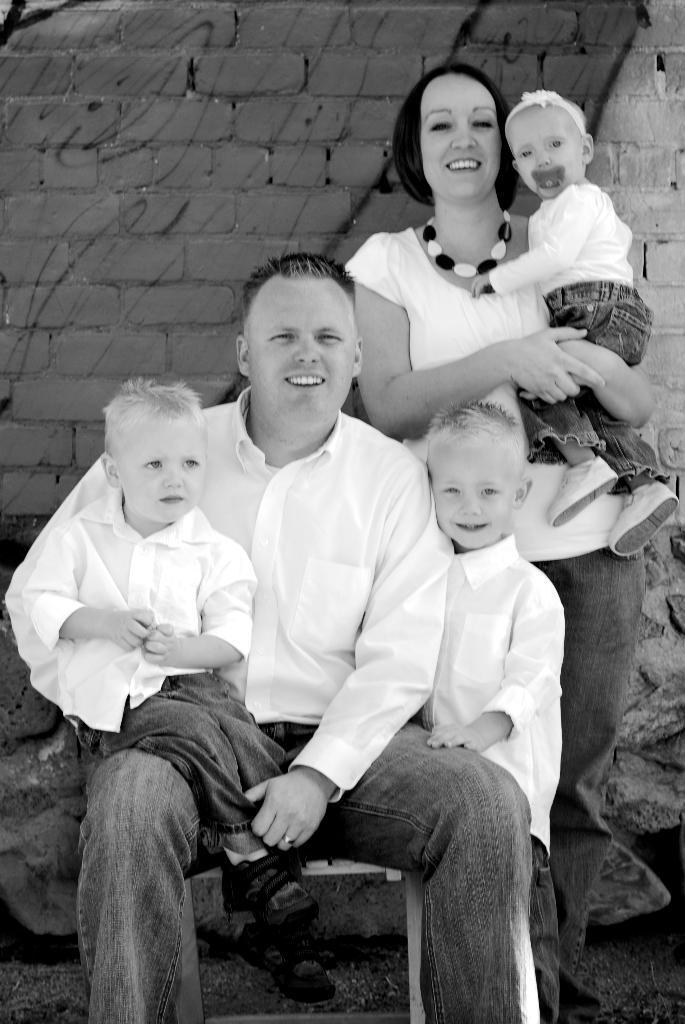Sem Máscara: (247, 286, 357, 423), (429, 437, 514, 547), (420, 76, 495, 199), (115, 421, 203, 524), (504, 107, 581, 197)
